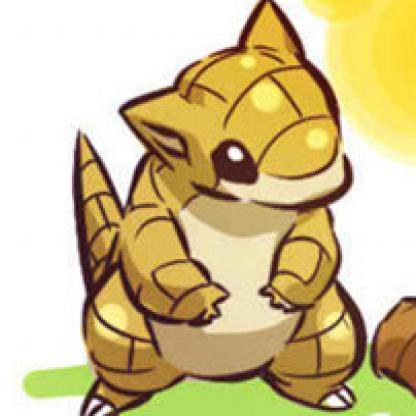Sandshrew: (57, 1, 372, 415)
